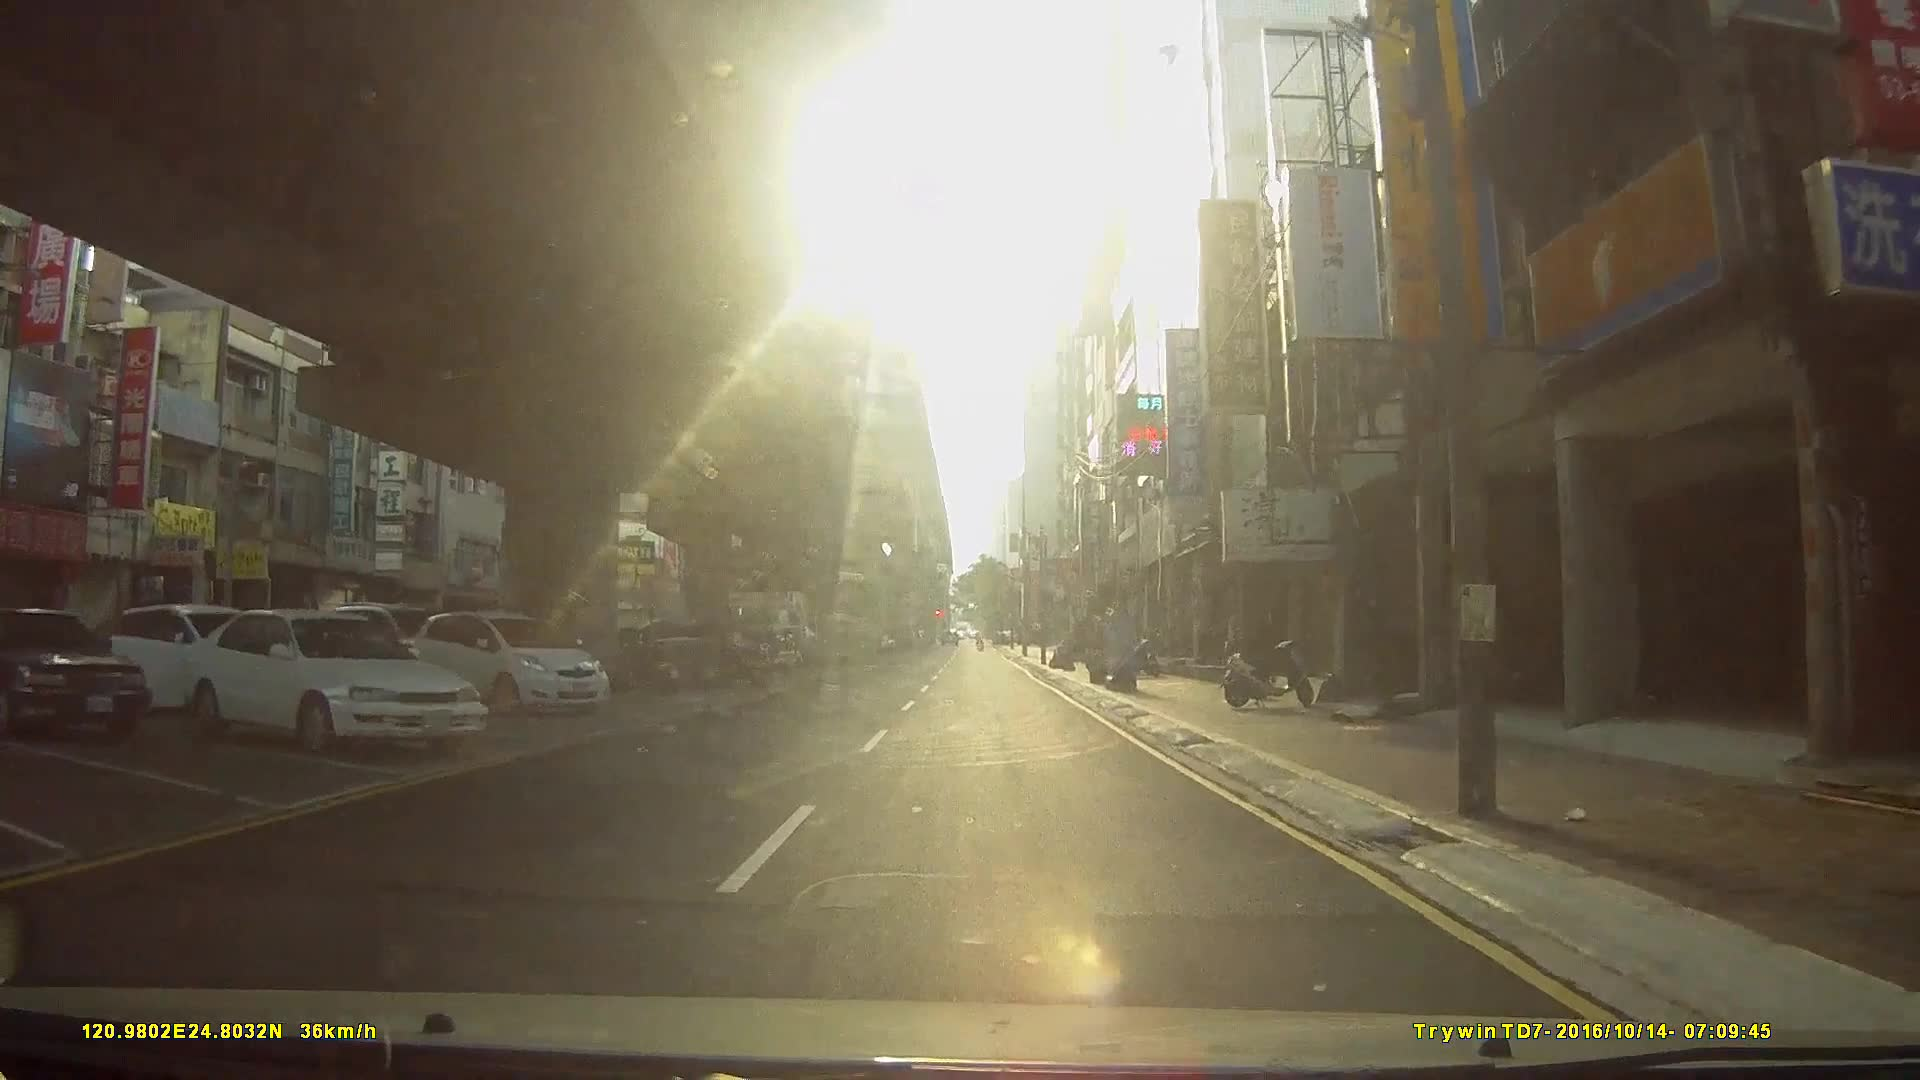vehicle: (179, 607, 487, 753), (407, 608, 611, 713), (0, 604, 146, 742), (102, 604, 274, 711)
